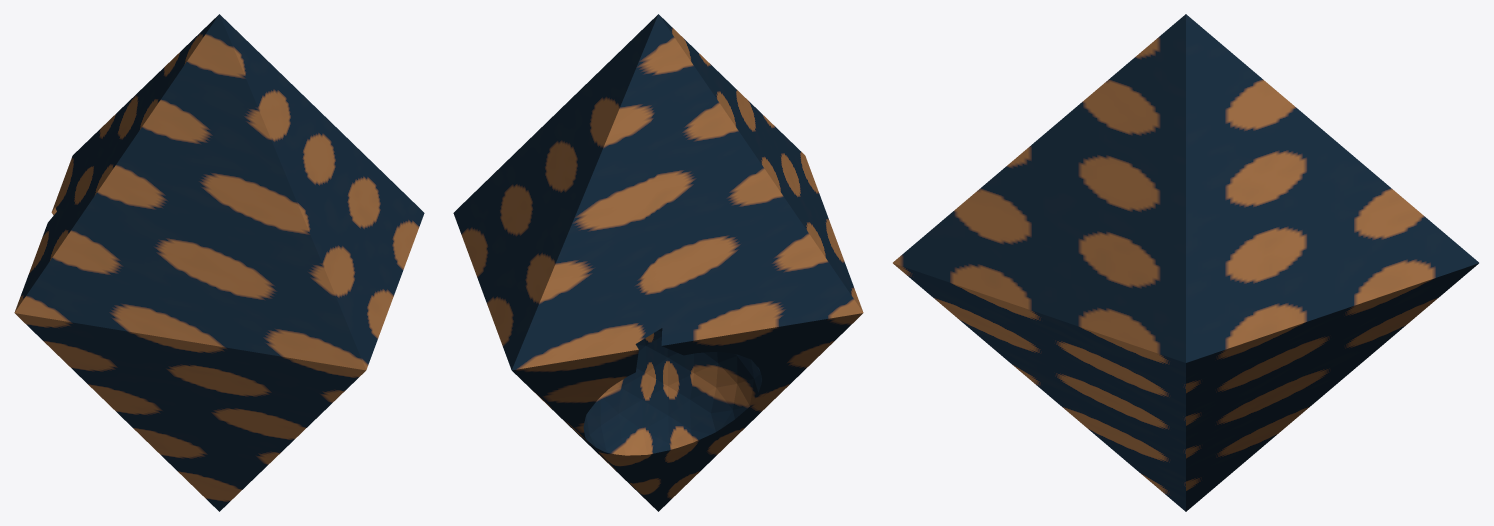
File: campfire.glb
3 views of the same model, side by side, from view 1: azimuth 30°, elevation 25°; view 2: azimuth 150°, elevation 25°; view 3: azimuth 270°, elevation 25° (orthographic).
Parts seen in each view (by area): view 1: geometry_0; view 2: geometry_0; view 3: geometry_0.
Boxes of the visible parts, bbox=[...] form: geometry_0: bbox=[14, 14, 424, 511]; geometry_0: bbox=[453, 14, 863, 511]; geometry_0: bbox=[893, 14, 1478, 511].
Bounding box in the file's own units: 1.5 × 1.74 × 1.86.
Materials: 1 (1 with a texture image).
